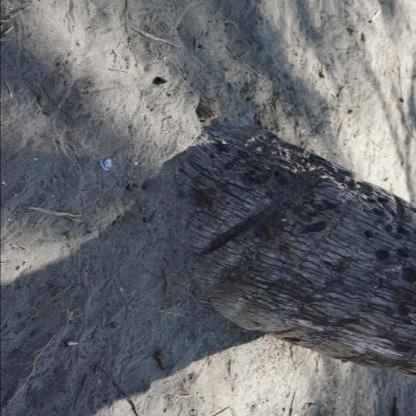Bottle: (100, 157, 112, 170)
